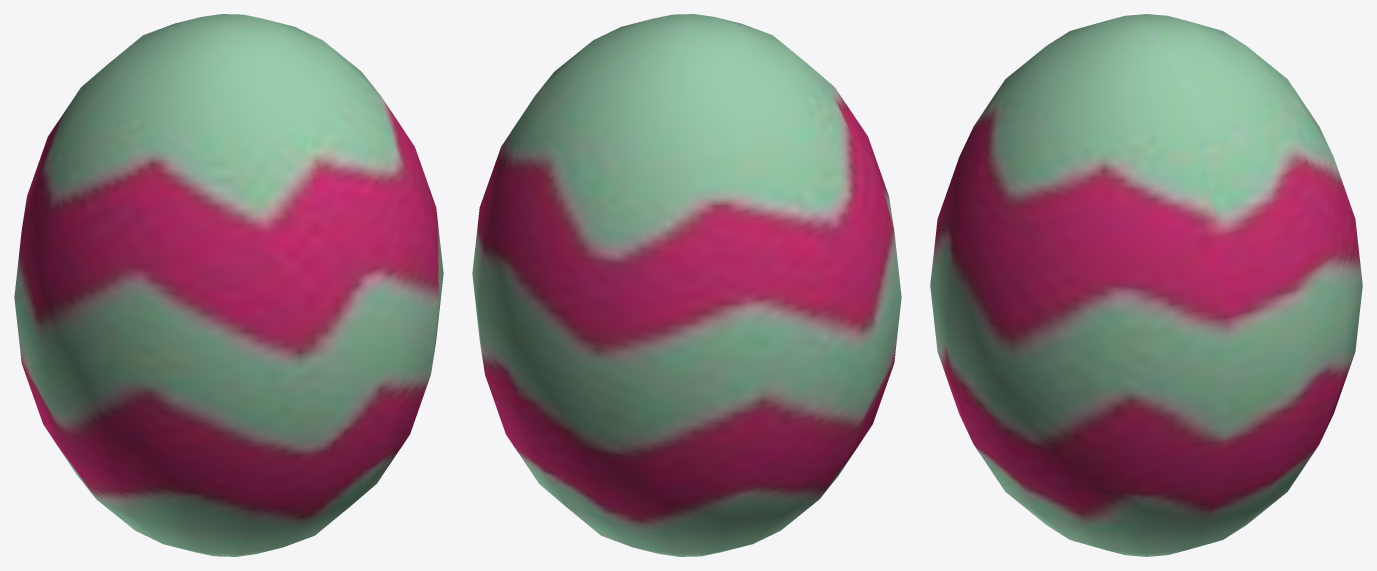
The model's file is egg_14.fbx.
3 renders of one model, left to right at view 1: azimuth 30°, elevation 25°; view 2: azimuth 150°, elevation 25°; view 3: azimuth 270°, elevation 25°, orthographic.
Visible parts, largest first — view 1: egg_14; view 2: egg_14; view 3: egg_14.
Part boxes in pixels (x1,y1,x2,y2): egg_14: [14, 14, 443, 556]; egg_14: [472, 14, 901, 556]; egg_14: [930, 14, 1362, 556].
Size of the model in its own units: 9.95 by 13.02 by 9.95.
